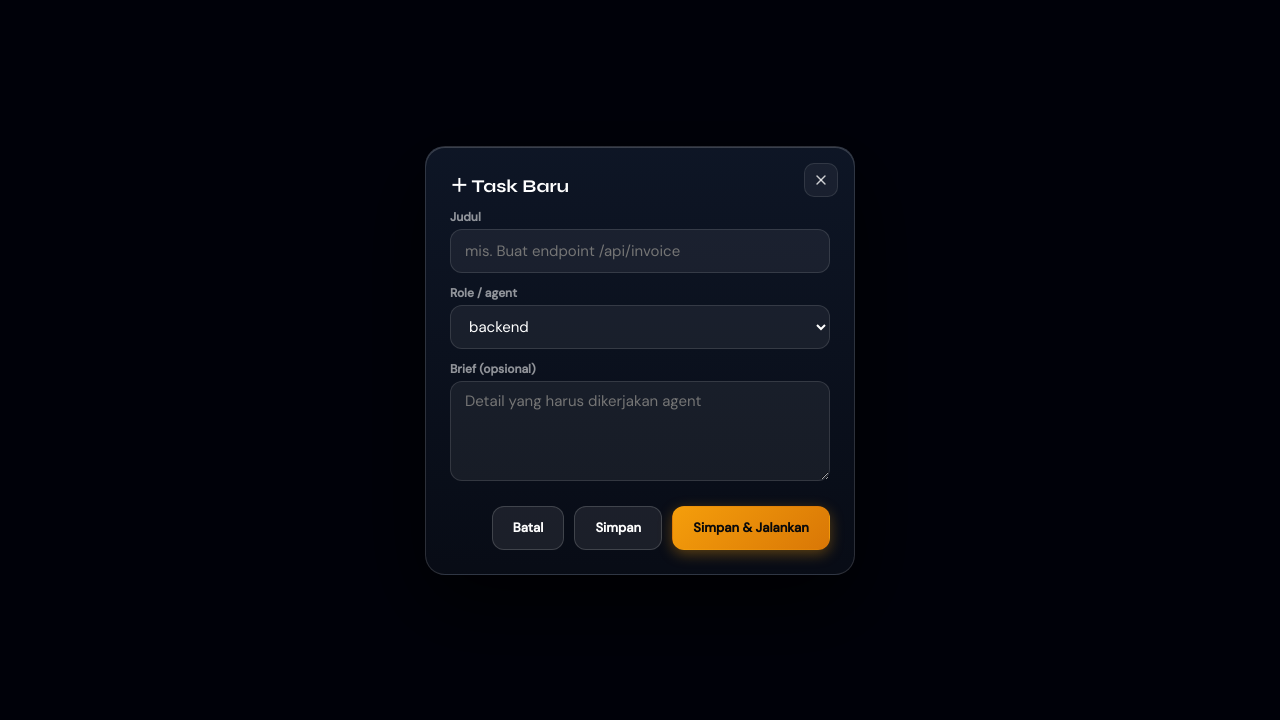
it: components/TaskModal › submit tanpa judul → error, api tidak dipanggil
The image size is (1280, 720).
Step 1. Click the button "Simpan" → (618, 528), box left=574, top=506, right=662, bottom=550
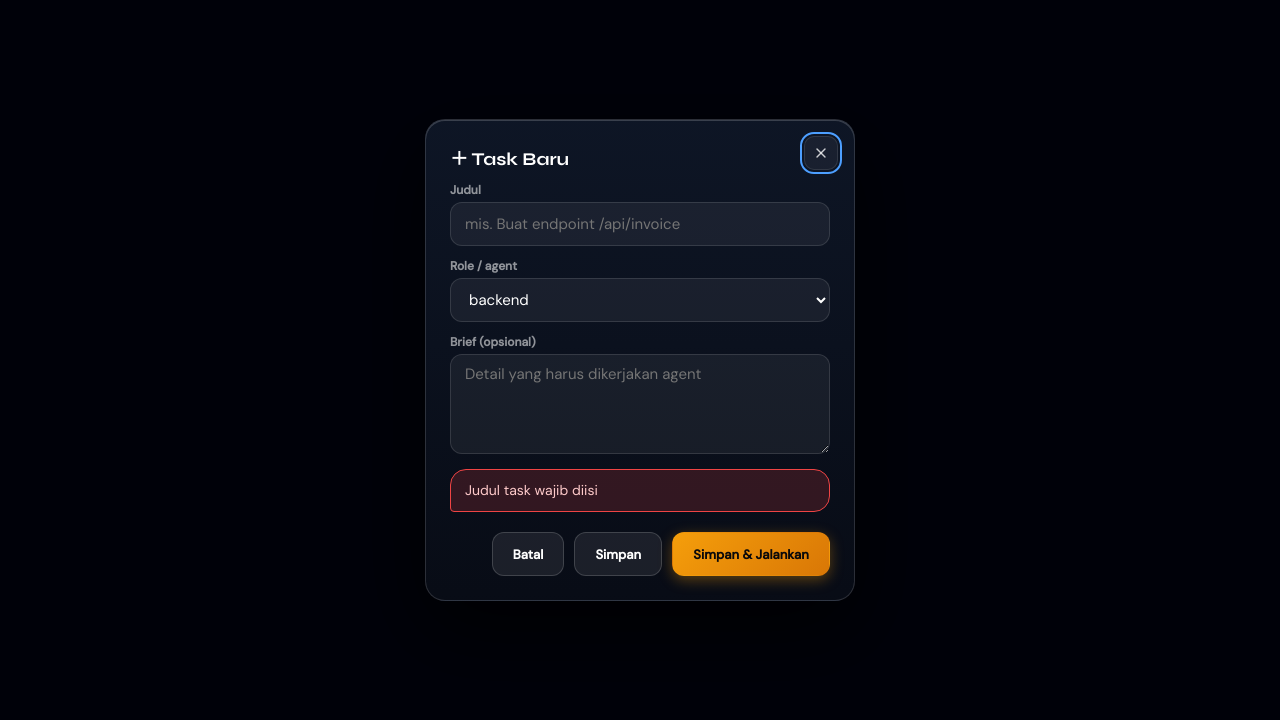
Now the message reads "Judul task wajib diisi", box left=465, top=481, right=598, bottom=499
